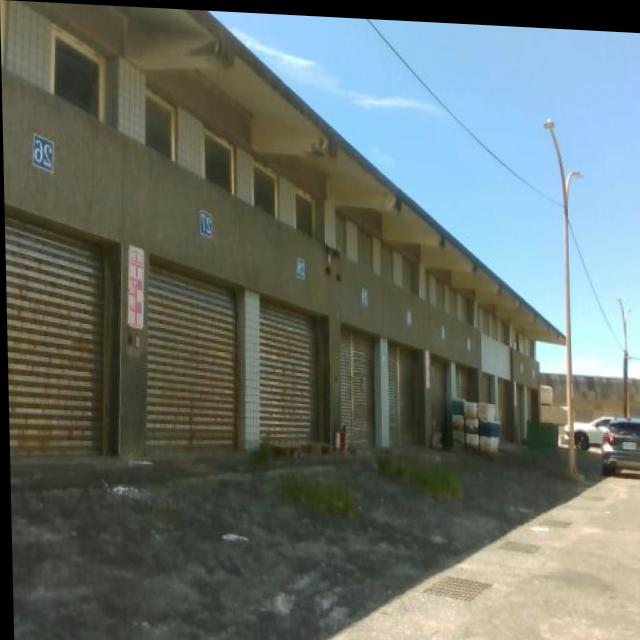pollute: (447, 389, 500, 451)
